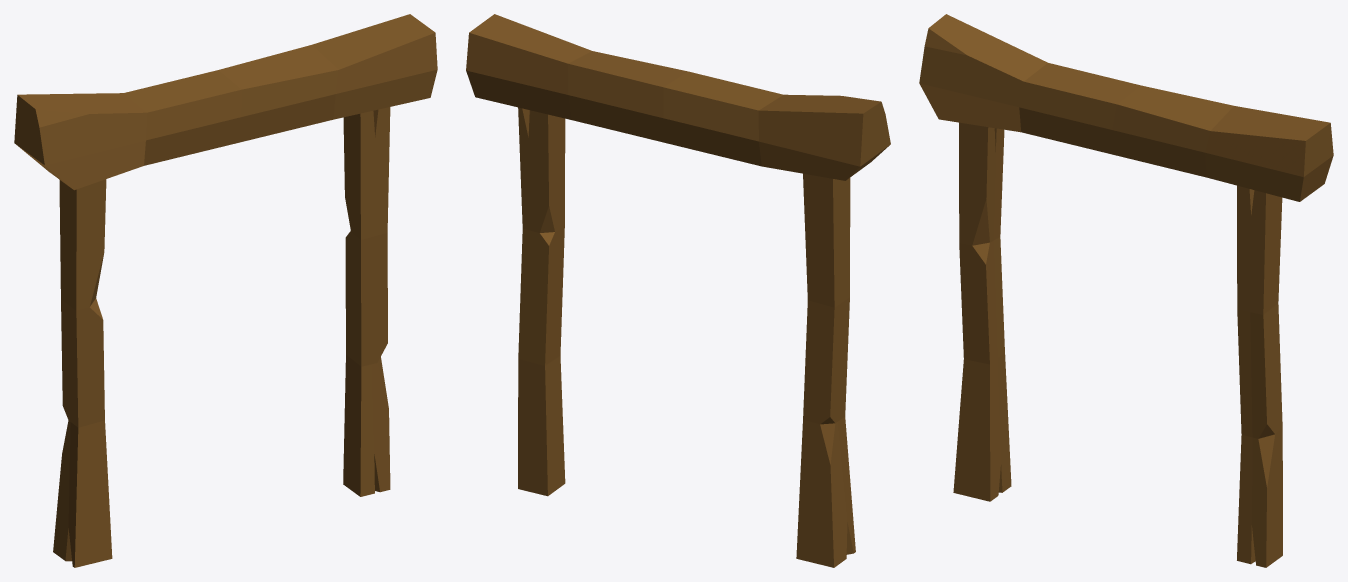
File: wooden_frame.fbx
3 views of the same model, side by side, from view 1: azimuth 30°, elevation 25°; view 2: azimuth 150°, elevation 25°; view 3: azimuth 330°, elevation 25° (orthographic). The views are drawn at different scales.
Visible parts, largest first — view 1: Cube.007, Cube.005, Cube.004; view 2: Cube.007, Cube.005, Cube.004; view 3: Cube.007, Cube.005, Cube.004.
Boxes of the visible parts, x1,y1,x2,y2 form: Cube.007: [14, 14, 437, 190]; Cube.005: [53, 179, 112, 567]; Cube.004: [343, 107, 390, 496]; Cube.007: [466, 14, 890, 180]; Cube.005: [796, 173, 855, 567]; Cube.004: [518, 107, 565, 496]; Cube.007: [919, 14, 1333, 201]; Cube.005: [953, 122, 1011, 501]; Cube.004: [1237, 185, 1282, 567].
Bounding box in the file's own units: 317 × 358 × 49.33.
